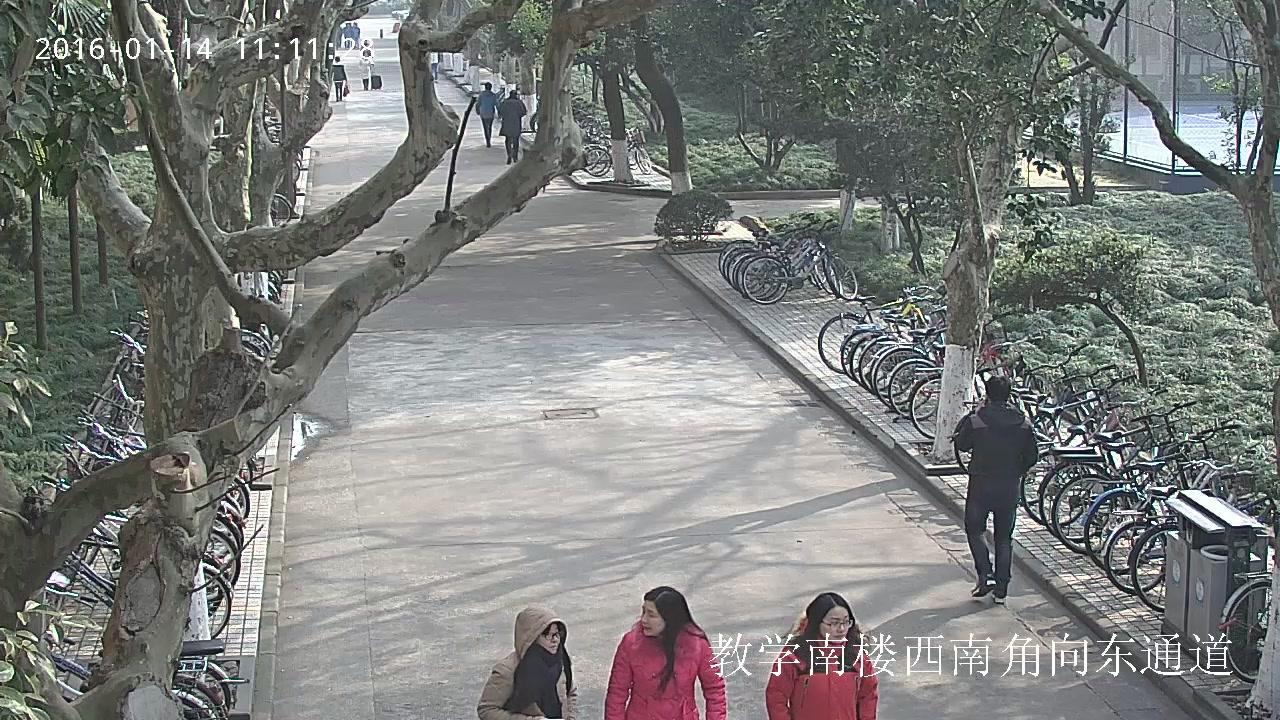person: (953, 375, 1038, 604), (604, 586, 725, 720), (765, 591, 876, 720), (476, 606, 578, 720), (498, 89, 526, 164), (476, 81, 498, 147), (359, 50, 381, 90), (330, 56, 348, 101), (330, 56, 346, 102), (359, 50, 374, 90), (428, 50, 438, 83), (343, 22, 352, 48), (352, 22, 359, 49)
